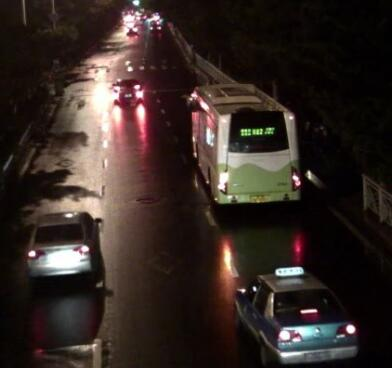bus: (186, 80, 304, 211)
car: (236, 266, 363, 364), (23, 212, 103, 288), (107, 77, 144, 107), (123, 21, 138, 36), (148, 20, 163, 33)
